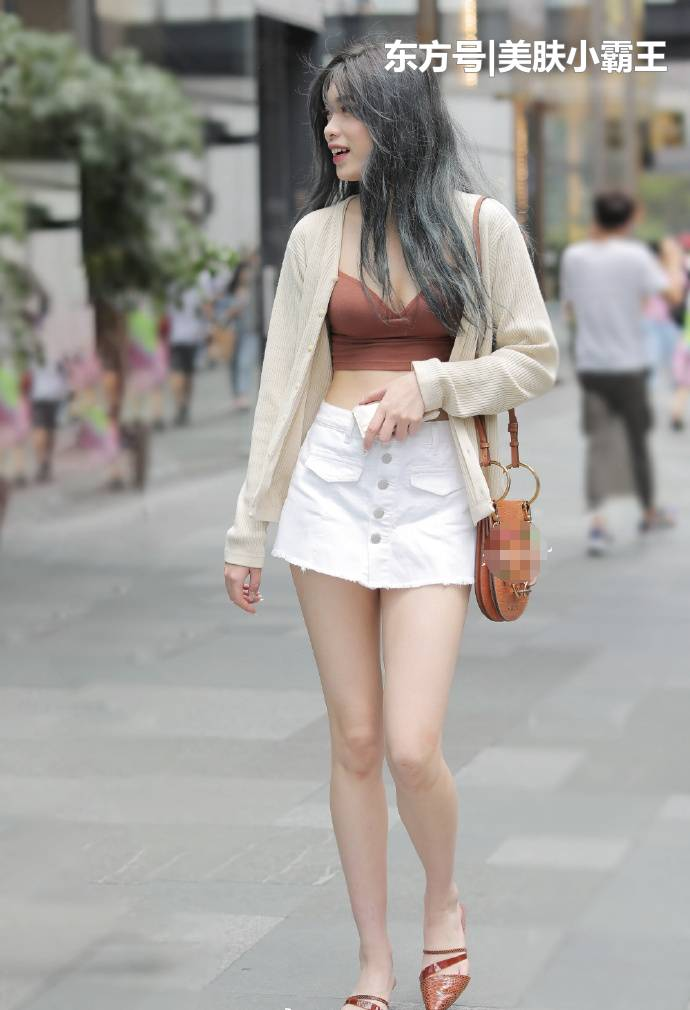people: (231, 47, 560, 1010)
